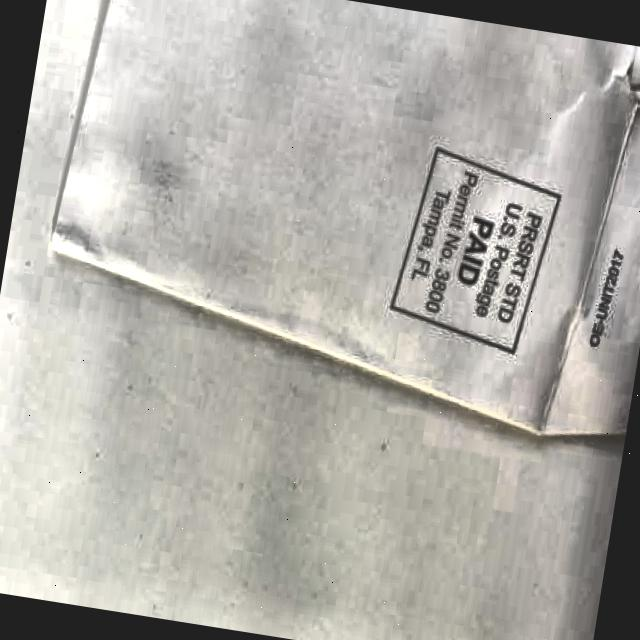paper: (22, 0, 640, 460)
